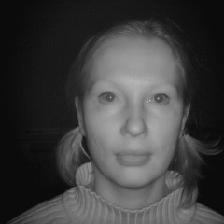normal: (58, 23, 215, 192)
